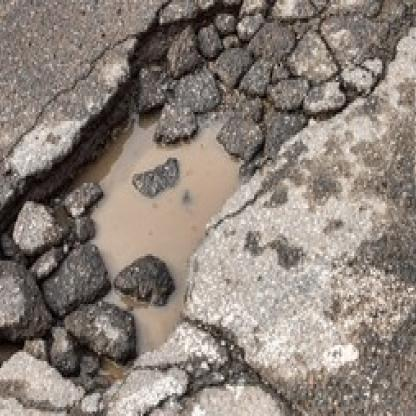pothole: (0, 0, 265, 393)
